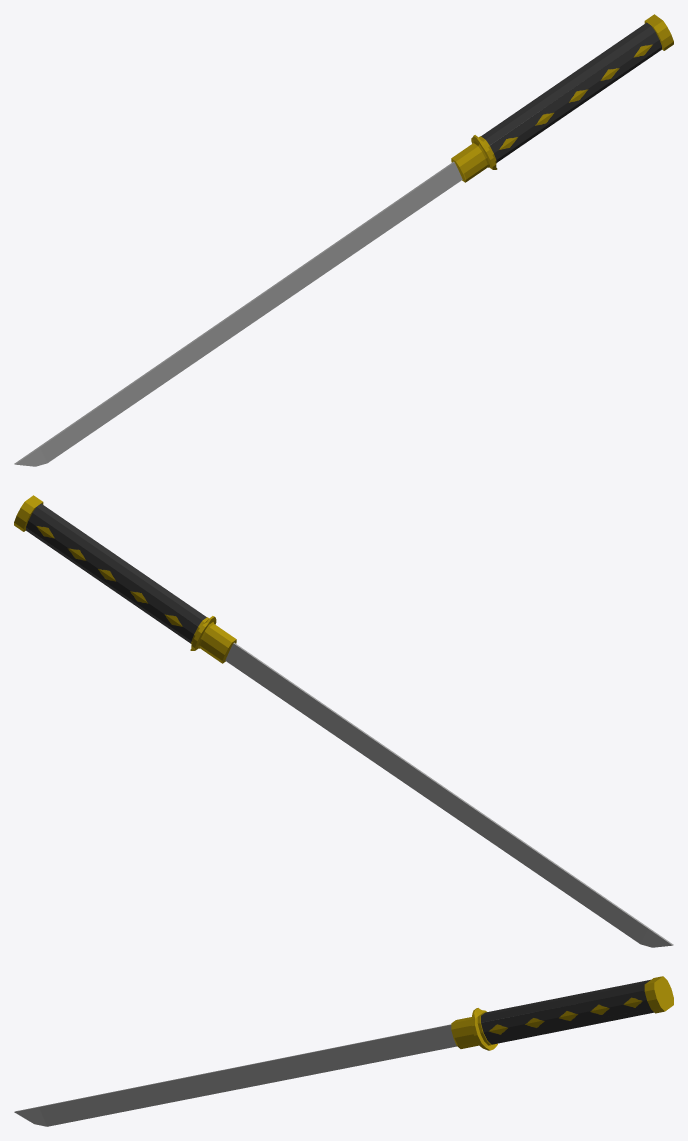
The model's file is Katana.fbx.
3 views of the same model, one above another, from view 1: azimuth 30°, elevation 25°; view 2: azimuth 150°, elevation 25°; view 3: azimuth 330°, elevation 25° (orthographic).
Visible parts, largest first — view 1: Cube; view 2: Cube; view 3: Cube.
Boxes of the visible parts, <box> form: Cube: <box>14,14,673,466</box>; Cube: <box>14,495,673,947</box>; Cube: <box>14,976,673,1126</box>.
Bounding box in the file's own units: 1443 × 625 × 62.9.
Materials: 1 (1 with a texture image).
